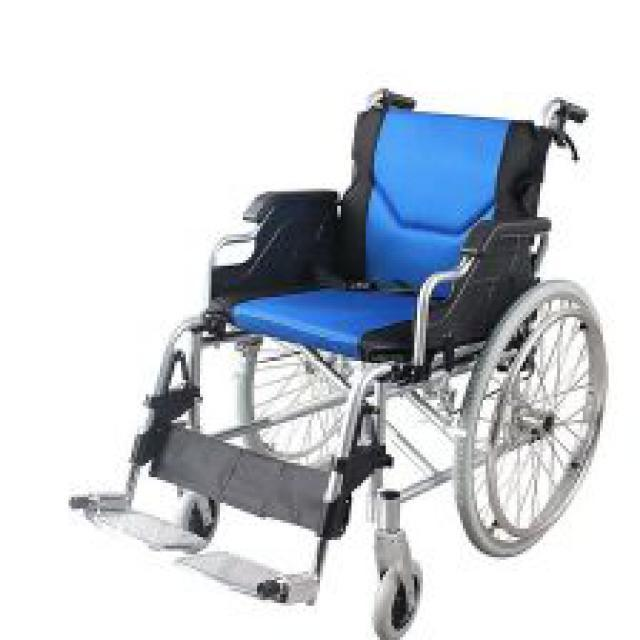wheelchair: (57, 80, 617, 637)
